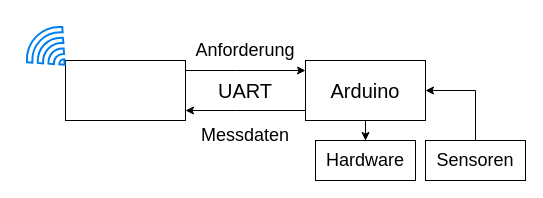
This 543x198 diagram has some shape labels left out. Here are the shapes that lost their labels. From the top down, the centre of each, then its label:
(50,50): WLAN
(125,90): ESP
